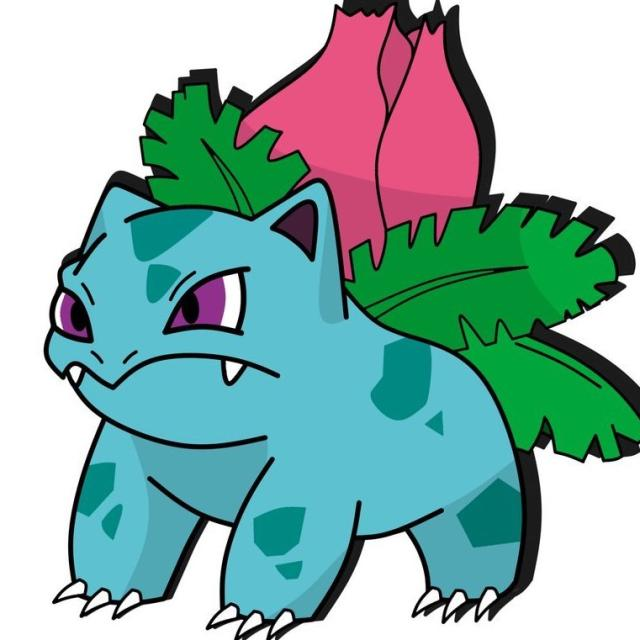Ivysaur: (35, 22, 616, 630)
